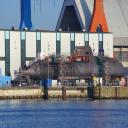submarine: (20, 47, 125, 80)
